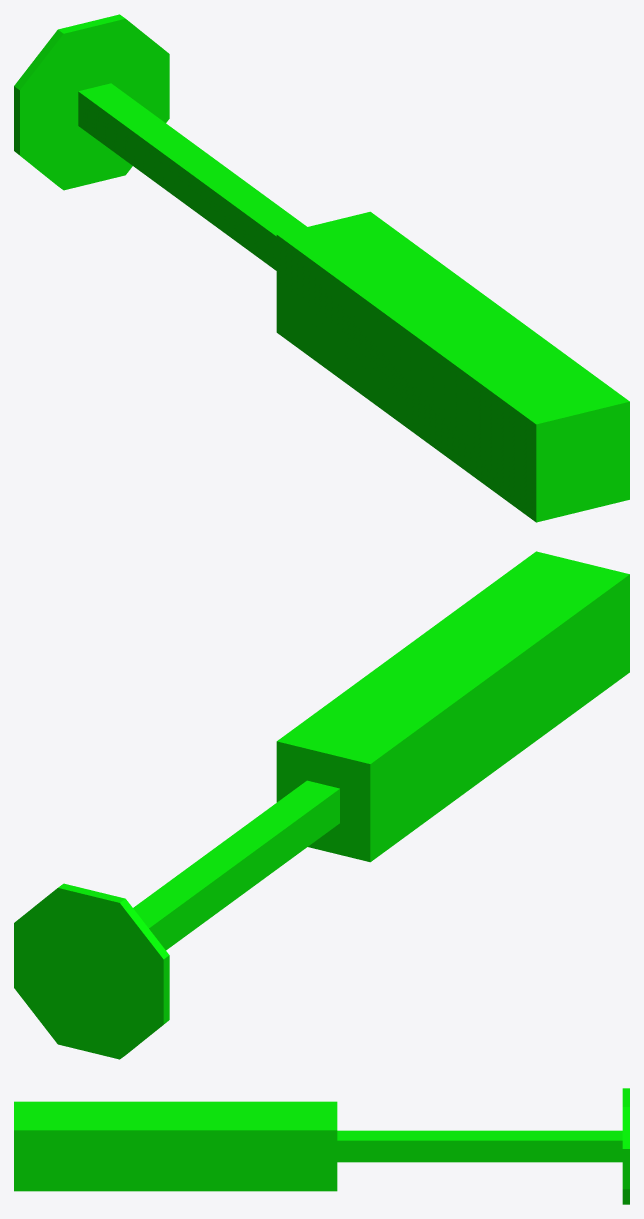
The model's file is SM_KitchenTool_18_Collider.fbx.
The picture shows the model from 3 angles, top to bottom: view 1: azimuth 30°, elevation 25°; view 2: azimuth 150°, elevation 25°; view 3: azimuth 270°, elevation 25°; orthographic projection. The views are drawn at different scales.
Visible parts, largest first — view 1: SM_KitchenTool_18_Collider; view 2: SM_KitchenTool_18_Collider; view 3: SM_KitchenTool_18_Collider.
Boxes of the visible parts, x1,y1,x2,y2 form: SM_KitchenTool_18_Collider: (14,14,629,522); SM_KitchenTool_18_Collider: (14,551,629,1059); SM_KitchenTool_18_Collider: (14,1088,629,1204).
Bounding box in the file's own units: 7.44 × 7.44 × 42.57.
